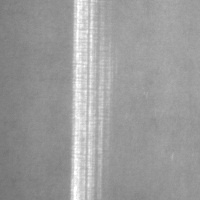scratches: (69, 0, 103, 199)
